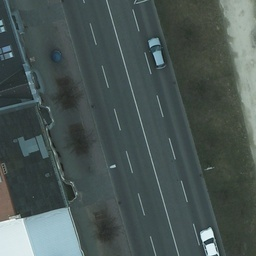car: (147, 36, 166, 68), (199, 224, 218, 256)
